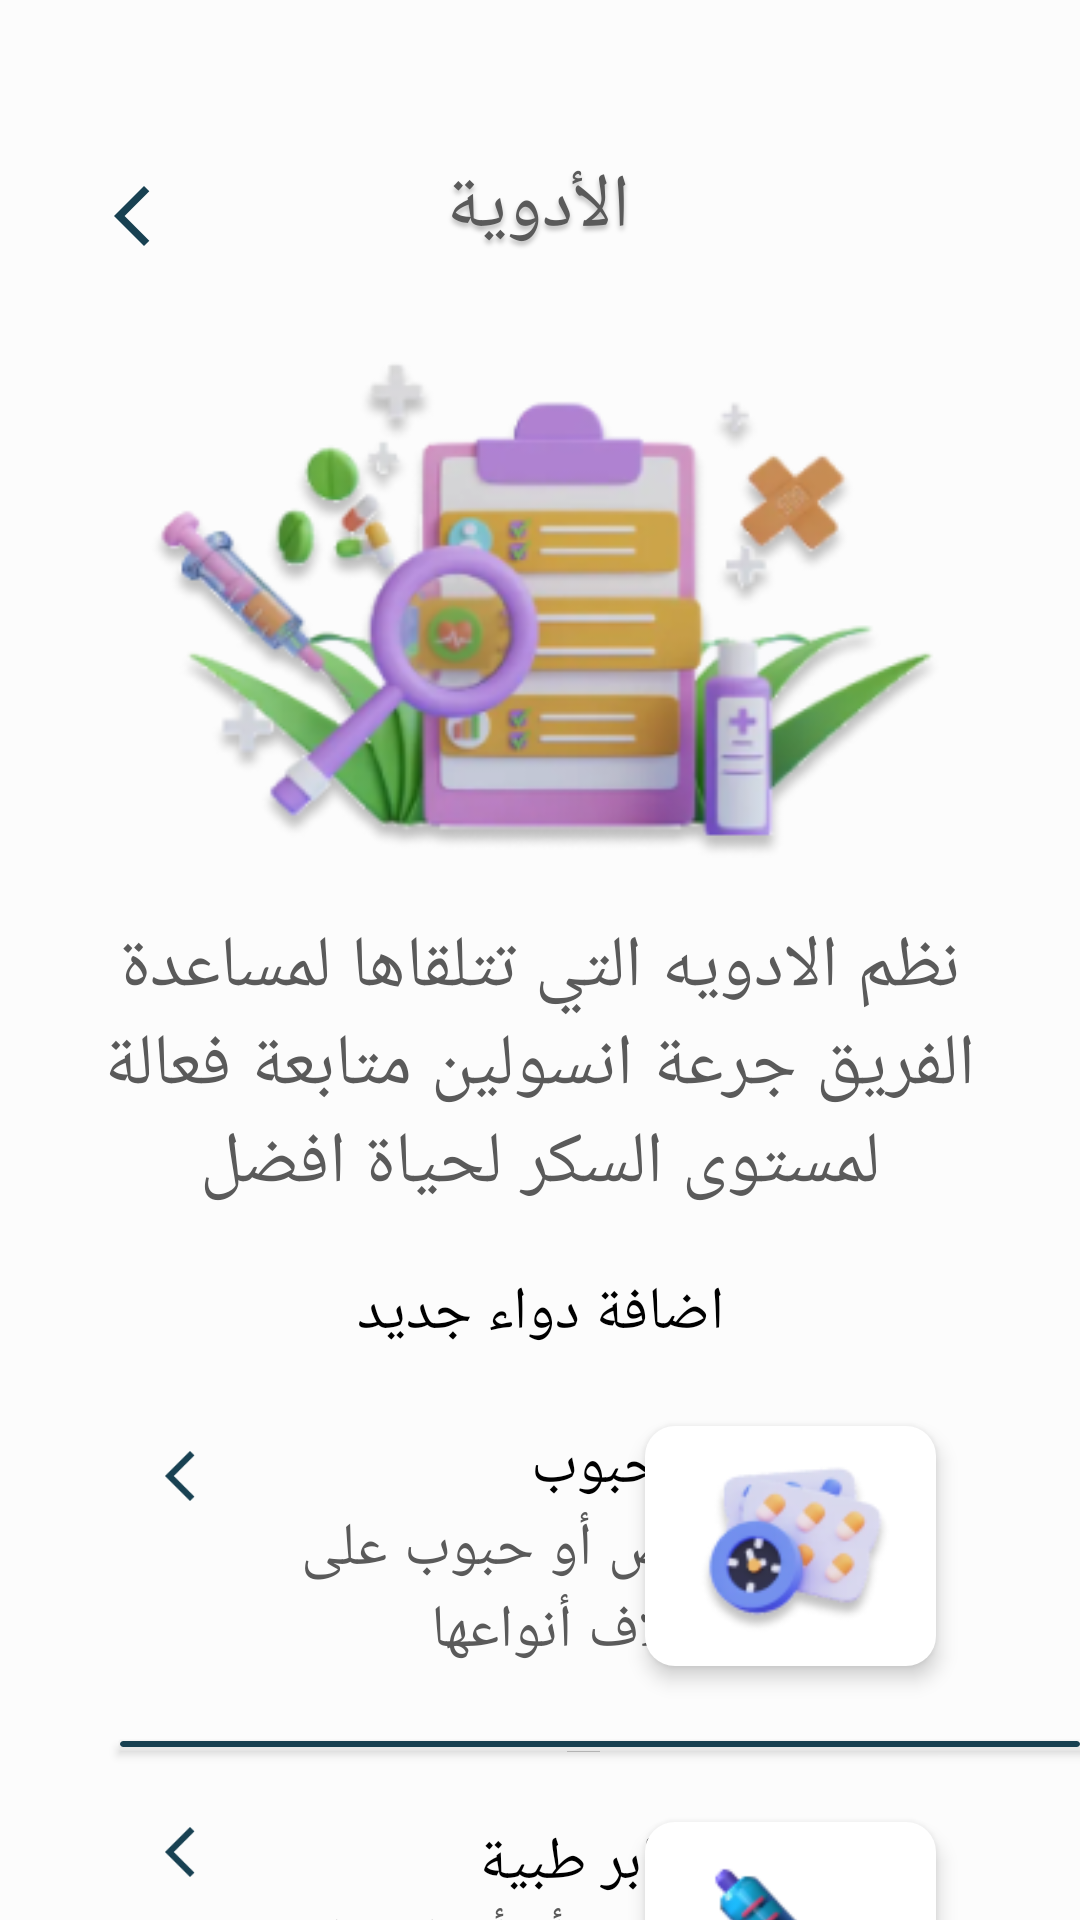

Named icons in this screenshot (1080*1920) and their bounding boxes, region(x1, y1, x2, y2):
arrow back: region(114, 186, 149, 246), region(165, 1451, 195, 1501), region(165, 1827, 195, 1877)
